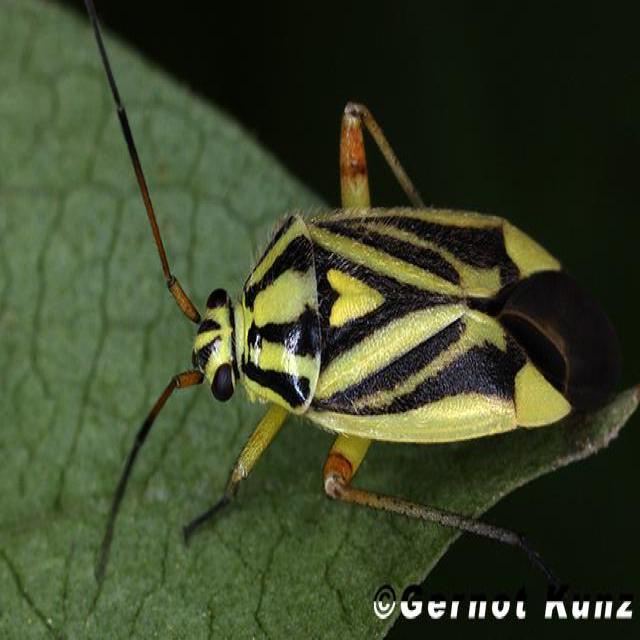Miridae-Adult-: (99, 41, 590, 565)
